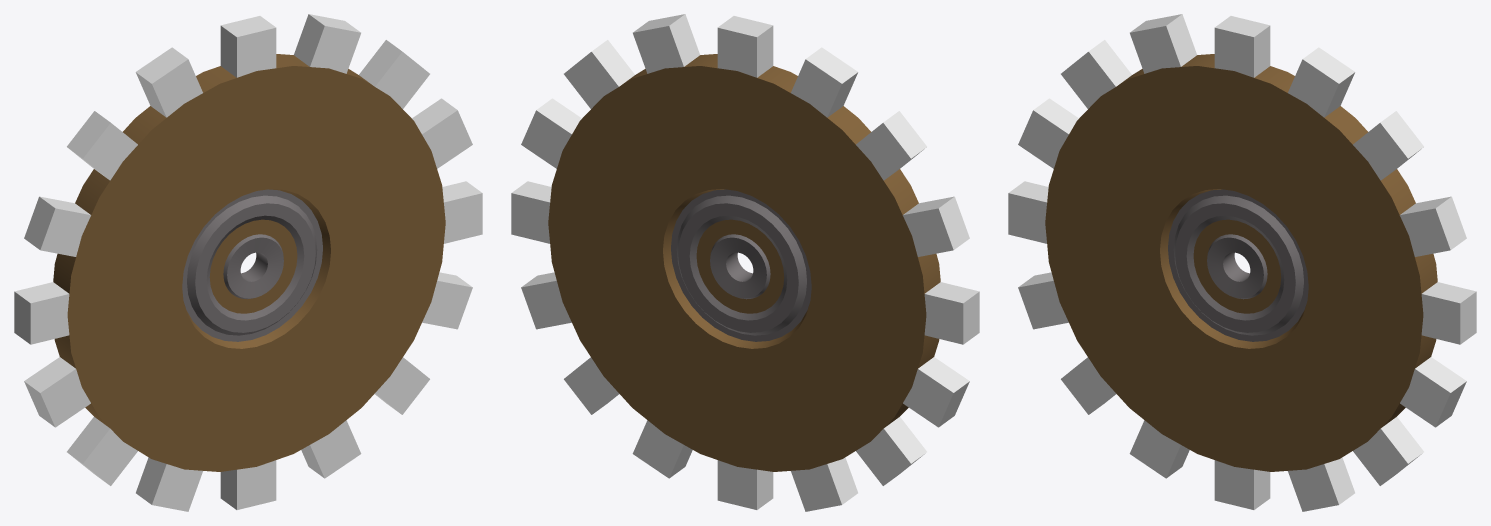
The model's file is cog_64_teeth_16.fbx.
The picture shows the model from 3 angles, left to right: view 1: azimuth 30°, elevation 25°; view 2: azimuth 150°, elevation 25°; view 3: azimuth 330°, elevation 25°; orthographic projection.
Visible parts, largest first — view 1: Cog_64, Teeth_16_64; view 2: Cog_64, Teeth_16_64; view 3: Cog_64, Teeth_16_64.
Boxes of the visible parts, left/top/right/bottom form: Cog_64: left=53, top=54, right=445, bottom=471; Teeth_16_64: left=14, top=14, right=482, bottom=511; Cog_64: left=548, top=54, right=940, bottom=471; Teeth_16_64: left=511, top=14, right=979, bottom=511; Cog_64: left=1045, top=54, right=1437, bottom=471; Teeth_16_64: left=1008, top=14, right=1476, bottom=511.
Bounding box in the file's own units: 60.87 × 60.87 × 3.81.
